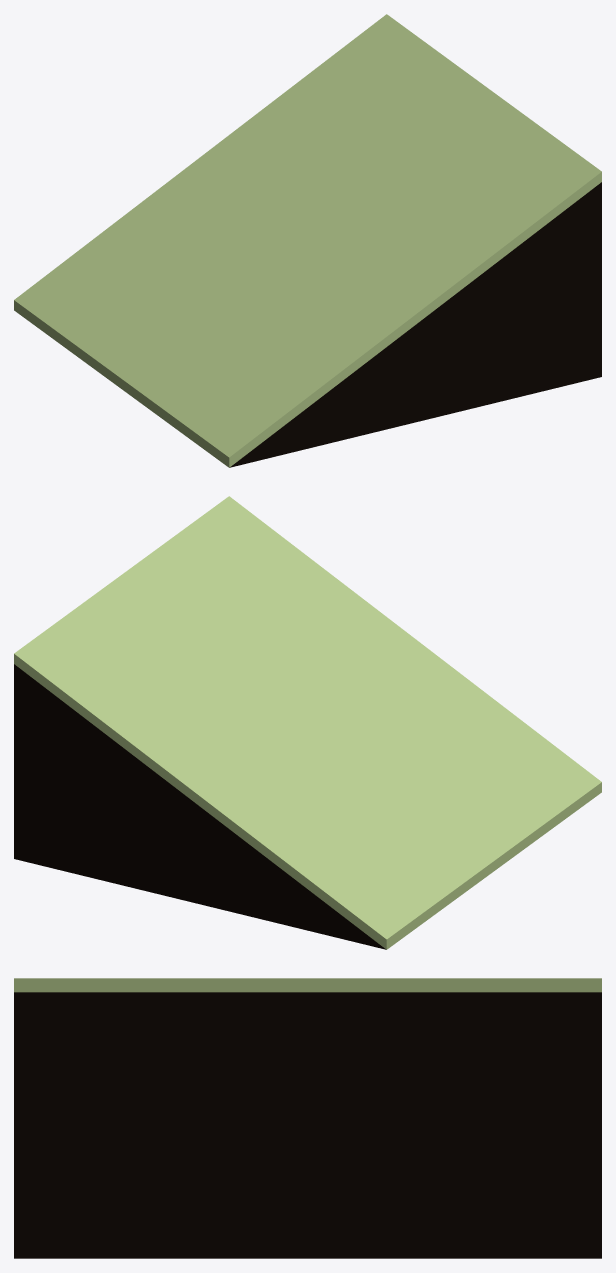
The model's file is ramp.obj.
The picture shows the model from 3 angles, top to bottom: view 1: azimuth 30°, elevation 25°; view 2: azimuth 150°, elevation 25°; view 3: azimuth 270°, elevation 25°; orthographic projection. The views are drawn at different scales.
Parts seen in each view (by area): view 1: ramp_Cube.001; view 2: ramp_Cube.001; view 3: ramp_Cube.001.
Part boxes in pixels (left/top/right/bottom): ramp_Cube.001: left=14, top=14, right=601, bottom=467; ramp_Cube.001: left=14, top=496, right=601, bottom=949; ramp_Cube.001: left=14, top=978, right=601, bottom=1258.
Bounding box in the file's own units: 2 × 1.05 × 2.
